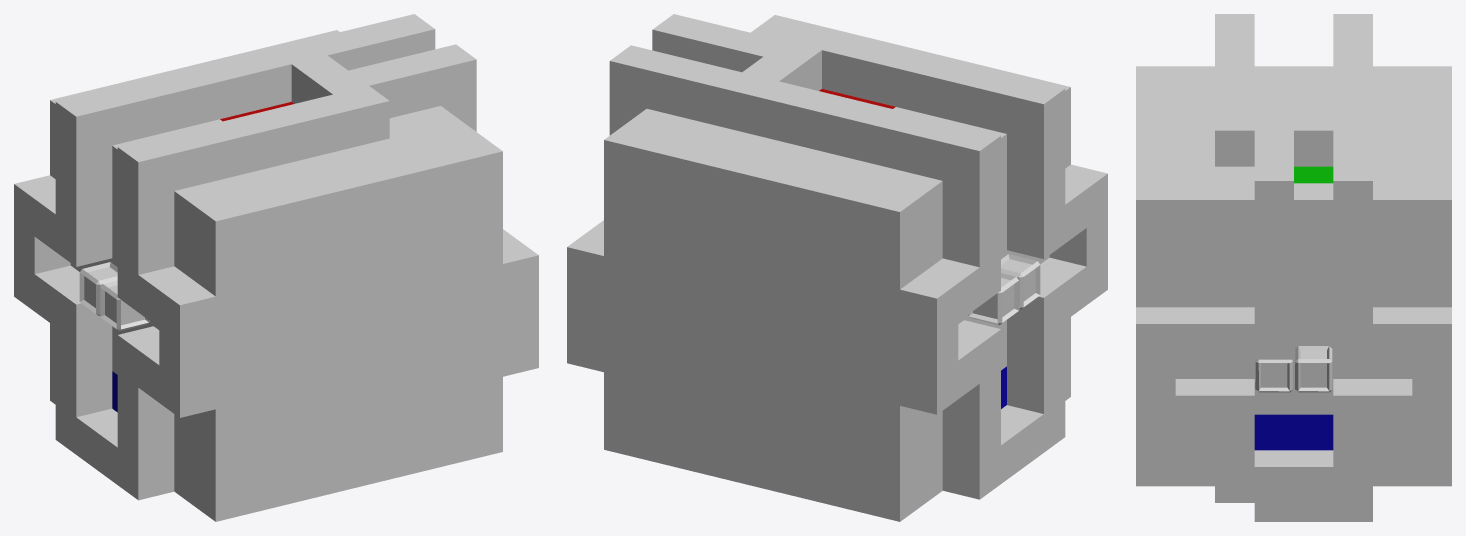
File: mapCube.fbx
3 views of the same model, side by side, from view 1: azimuth 30°, elevation 25°; view 2: azimuth 150°, elevation 25°; view 3: azimuth 270°, elevation 25° (orthographic). The views are drawn at different scales.
Parts seen in each view (by area): view 1: Planet_01, 01_Box_02, 01_Box_01; view 2: Planet_01, 01_Box_01, 01_Box_02; view 3: Planet_01, 01_Box_03, 01_Box_04.
Boxes of the visible parts, x1,y1,x2,y2 form: Planet_01: (14,14,538,521); 01_Box_02: (100,280,149,330); 01_Box_01: (79,262,117,315); Planet_01: (567,14,1107,521); 01_Box_01: (968,273,1018,325); 01_Box_02: (1001,254,1040,309); Planet_01: (1136,14,1451,521); 01_Box_03: (1295,346,1332,392); 01_Box_04: (1255,359,1292,392).
Size of the model in its own units: 12.5 by 12.5 by 10.
